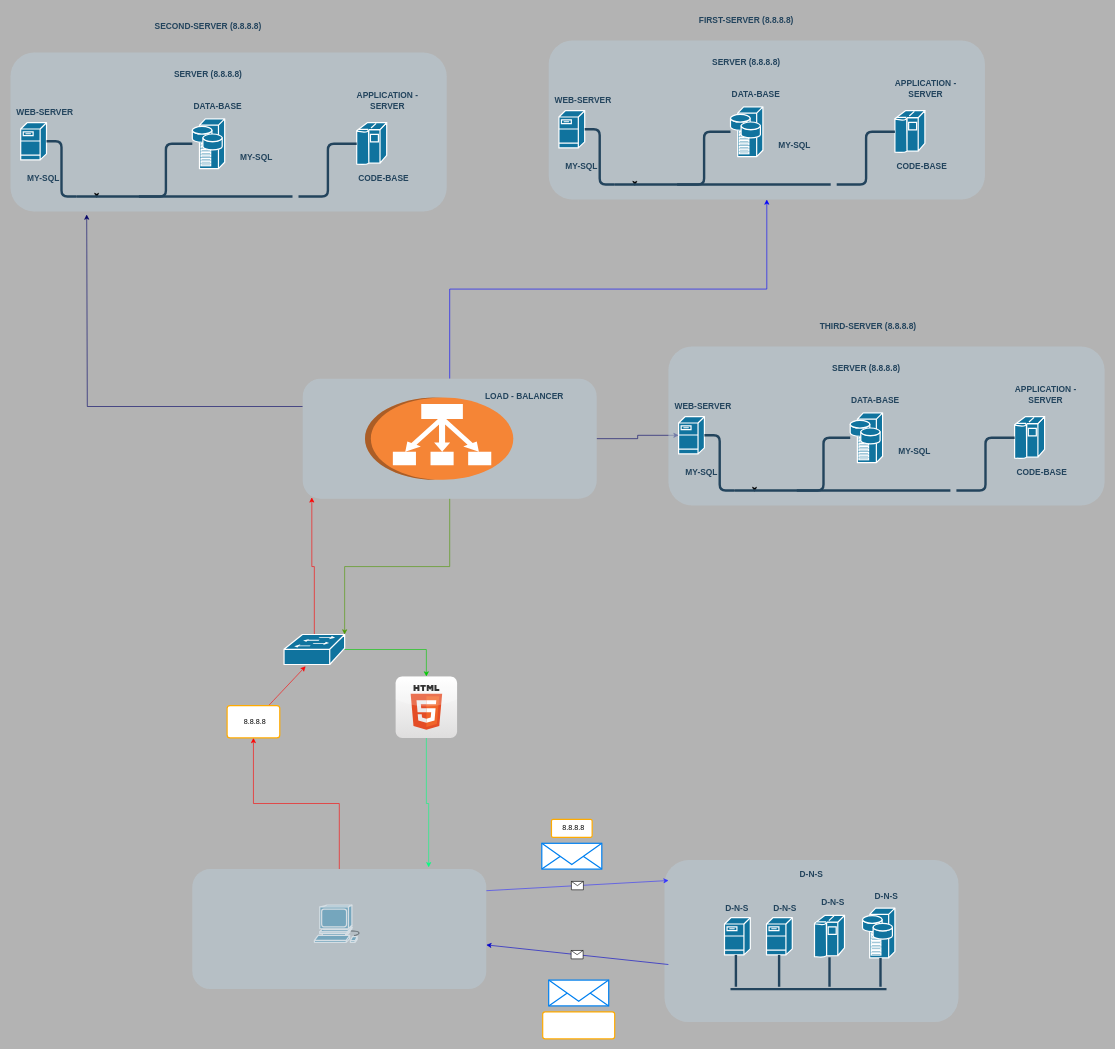
Image size: 1115x1049. Some labels were removed from this diagram. The shapes that lost their labels are listed below. From the top down, each one's box as (x1, y1, x2, y2) in pixels, then its label:
(192, 869, 486, 989): PC-REQUEST
(542, 1011, 615, 1039): www.foobar.com
